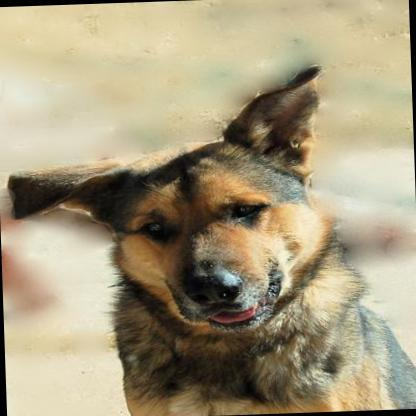German_shepherd: (1, 60, 416, 416)
